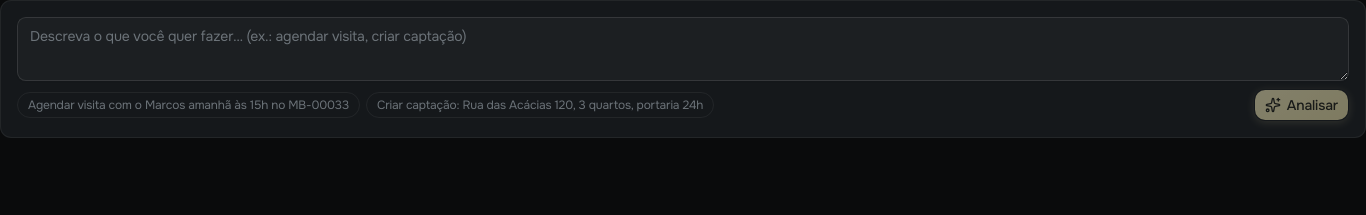
Test case: Console do /assistente usa o cartão compartilhado › avisa quando a IA não identifica nenhuma ação
Replace the text in the text box with "bom dia" at (683, 49), box [17, 17, 1349, 81]
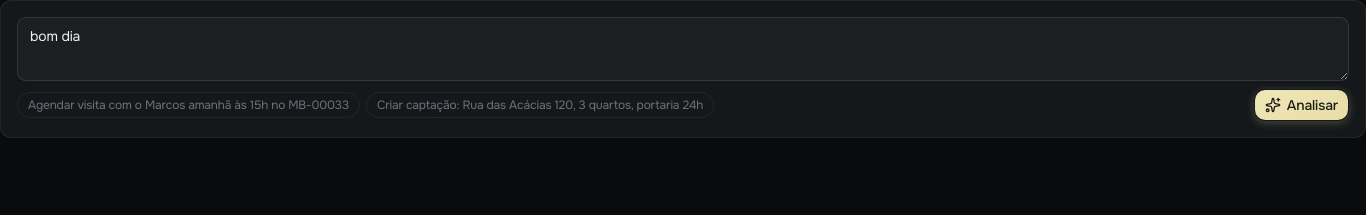
Click the button "Analisar".
click(1301, 105)  # box [1254, 89, 1349, 121]
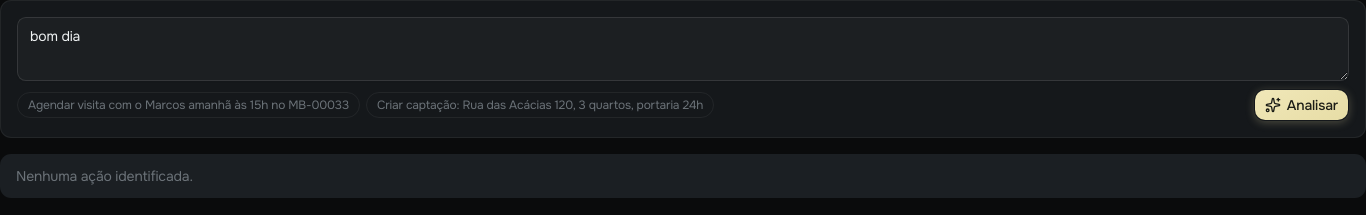
expect the text "Nenhuma ação identificada." is shown: met, box [0, 154, 1365, 198]
